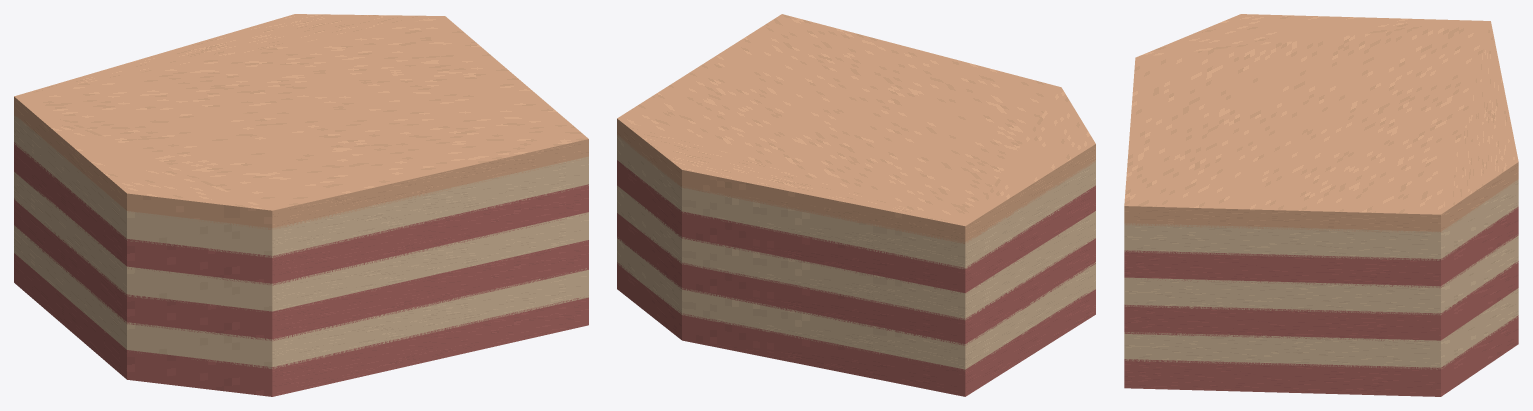
File: porkbelly.glb
The picture shows the model from 3 angles, left to right: view 1: azimuth 30°, elevation 25°; view 2: azimuth 150°, elevation 25°; view 3: azimuth 270°, elevation 25°; orthographic projection. The views are drawn at different scales.
Parts seen in each view (by area): view 1: block_outer rind, block_cut meat (×3), block_fat streak (×3); view 2: block_outer rind, block_cut meat (×3), block_fat streak (×3); view 3: block_outer rind, block_fat streak (×3), block_cut meat (×3).
Part boxes in pixels (bbox=[...]): block_outer rind: bbox=[14, 14, 588, 229]; block_cut meat (×3): bbox=[14, 142, 588, 396]; block_fat streak (×3): bbox=[14, 116, 588, 368]; block_outer rind: bbox=[617, 14, 1095, 243]; block_cut meat (×3): bbox=[617, 160, 1095, 396]; block_fat streak (×3): bbox=[617, 135, 1095, 369]; block_outer rind: bbox=[1124, 14, 1518, 232]; block_fat streak (×3): bbox=[1124, 179, 1518, 369]; block_cut meat (×3): bbox=[1124, 206, 1518, 396].
Size of the model in its own units: 0.1259 by 0.0533 by 0.1045.
Materials: 1 (1 with a texture image).
